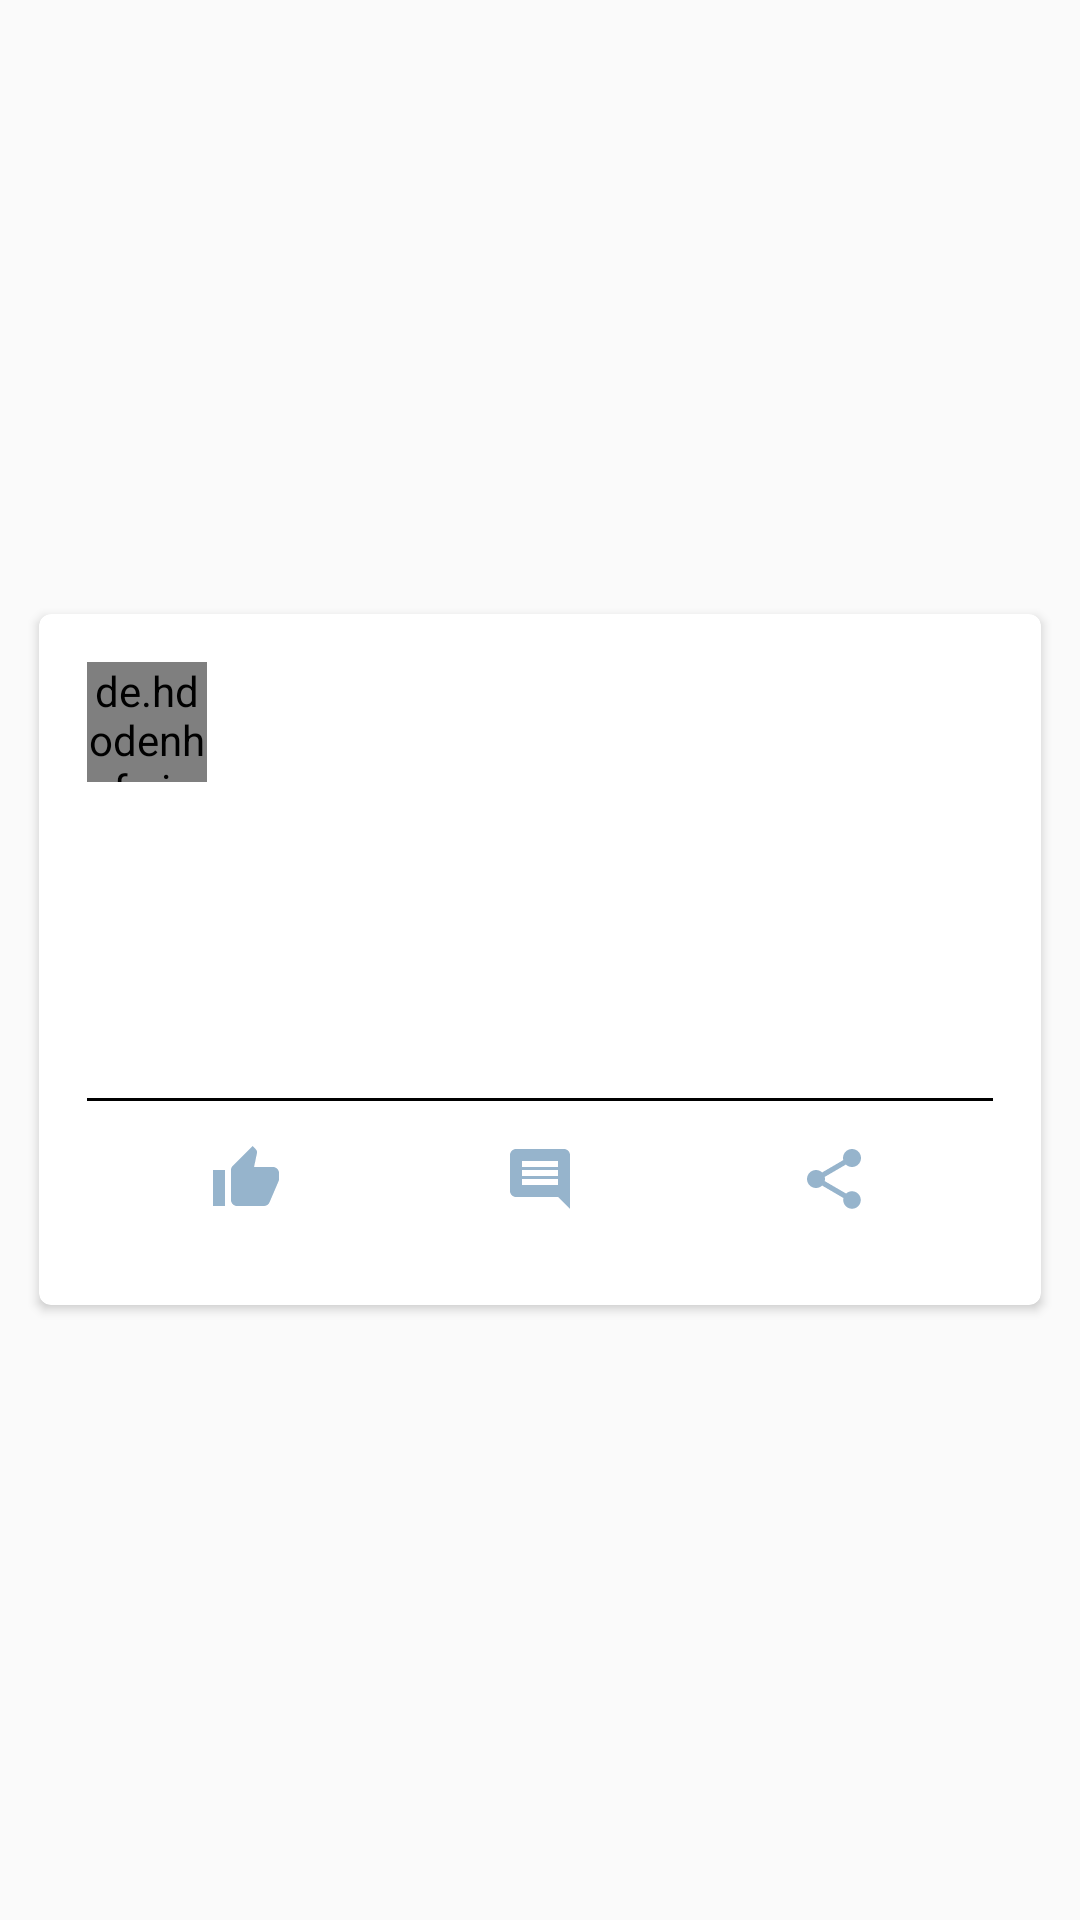

Locate icon controls on the screen. Image size 1080px×1920px, boxes as BBox(x1, y1, x2, y2).
comment: BBox(510, 1149, 570, 1209)
like: BBox(213, 1146, 279, 1206)
share: BBox(807, 1149, 861, 1209)
